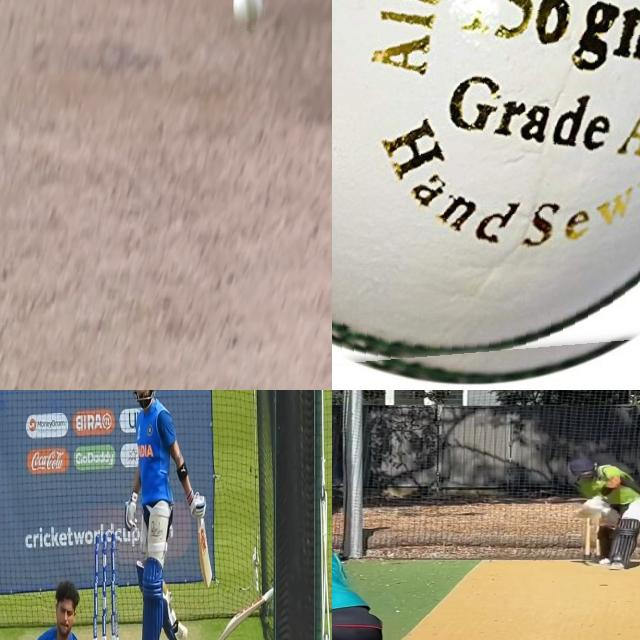Cricket ball: (332, 0, 640, 379), (233, 0, 265, 32), (598, 558, 611, 566)
Stumps: (93, 531, 119, 640)
